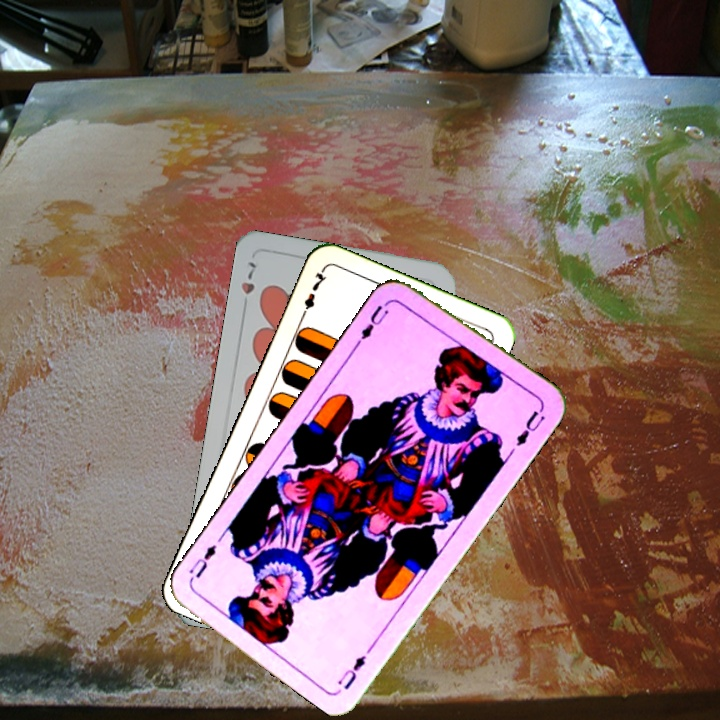E7: (296, 266, 329, 322)
EU: (353, 301, 391, 348), (333, 651, 369, 693)
H7: (237, 257, 259, 314)
